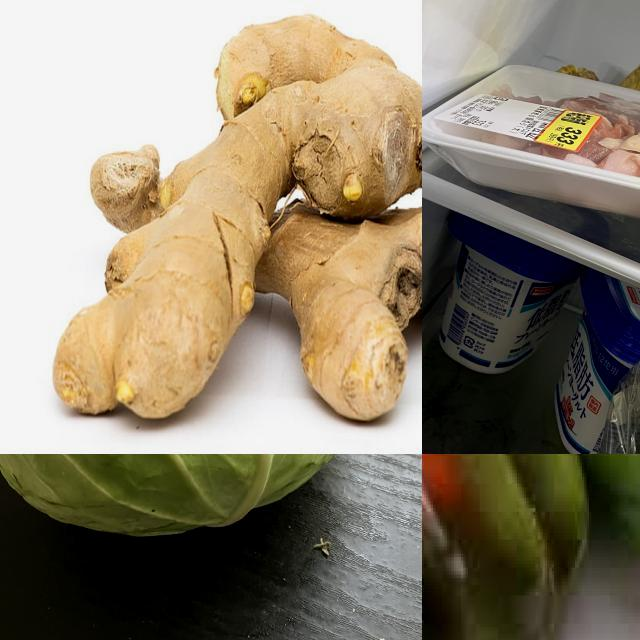bell_pepper: (423, 455, 604, 640), (537, 455, 640, 572)
cabbage: (1, 455, 373, 542)
